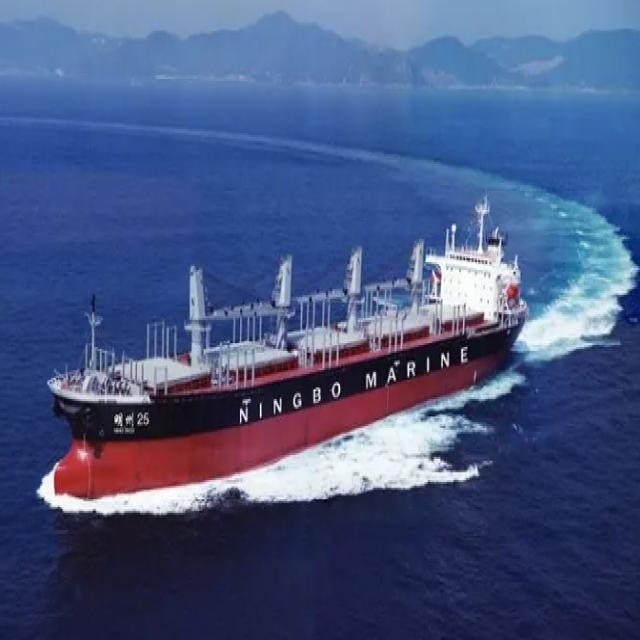cargoship: (40, 218, 522, 492)
